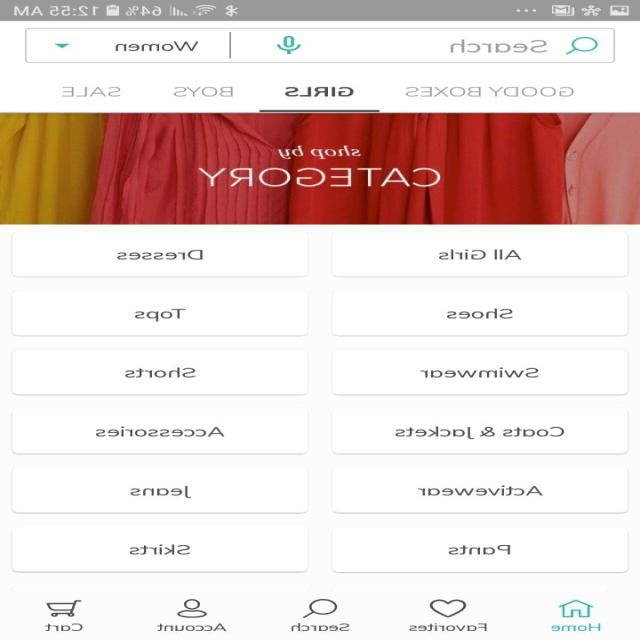EditText: (26, 28, 616, 63)
Icon: (302, 598, 338, 618), (558, 598, 595, 617), (429, 599, 467, 617), (46, 600, 83, 616), (178, 598, 209, 617), (566, 37, 598, 55), (276, 36, 302, 55), (55, 43, 71, 48)
Image: (1, 113, 640, 225)
Text: (198, 167, 442, 187), (406, 86, 574, 96), (450, 40, 548, 52), (278, 145, 362, 159), (116, 41, 200, 51), (284, 87, 354, 96), (409, 623, 487, 631), (158, 623, 228, 631), (174, 87, 234, 96), (63, 87, 122, 96), (292, 623, 351, 631), (551, 623, 601, 631), (46, 623, 84, 631)
TextButton: (12, 525, 310, 572), (12, 289, 310, 336), (332, 466, 630, 513), (332, 407, 630, 454), (332, 289, 630, 336), (330, 526, 630, 572), (12, 230, 310, 276), (12, 349, 310, 395), (12, 408, 310, 454), (12, 467, 310, 513), (332, 348, 630, 394), (332, 230, 628, 276)
